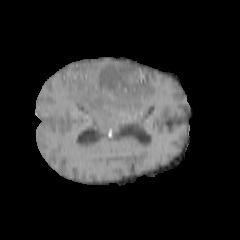glioma: (64, 60, 150, 121)
